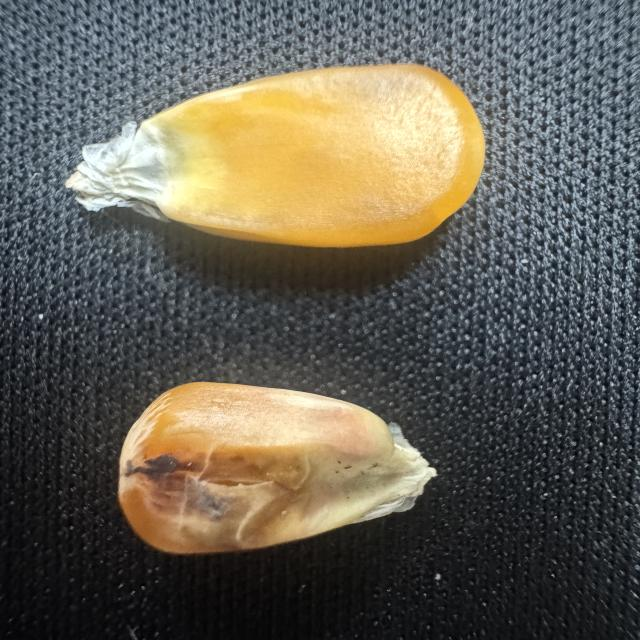Bad-Seed: (102, 368, 445, 562)
Good-Seed: (49, 59, 494, 266)
